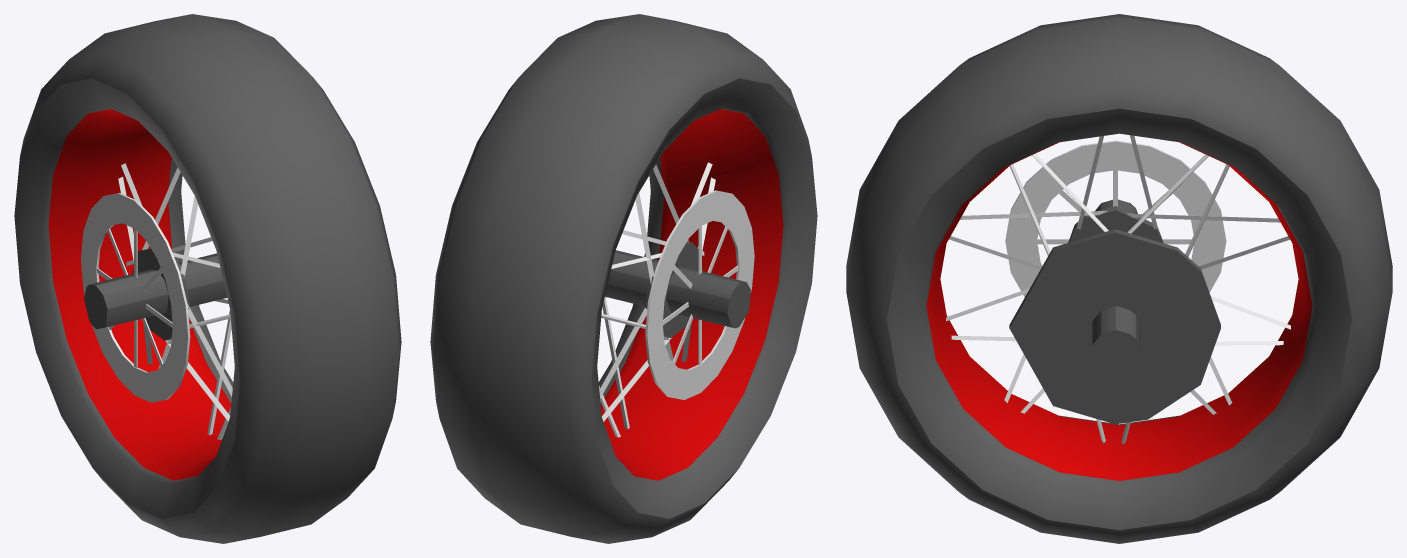
The model's file is bike_chop_wheel_rear.fbx.
The picture shows the model from 3 angles, left to right: view 1: azimuth 30°, elevation 25°; view 2: azimuth 150°, elevation 25°; view 3: azimuth 270°, elevation 25°; orthographic projection. The views are drawn at different scales.
Visible parts, largest first — view 1: rearWheel; view 2: rearWheel; view 3: rearWheel.
Boxes of the visible parts, x1=… form: rearWheel: x1=14, y1=14, x2=401, y2=543; rearWheel: x1=430, y1=14, x2=817, y2=543; rearWheel: x1=846, y1=14, x2=1392, y2=543.
Bounding box in the file's own units: 33.58 × 59.13 × 59.13.
